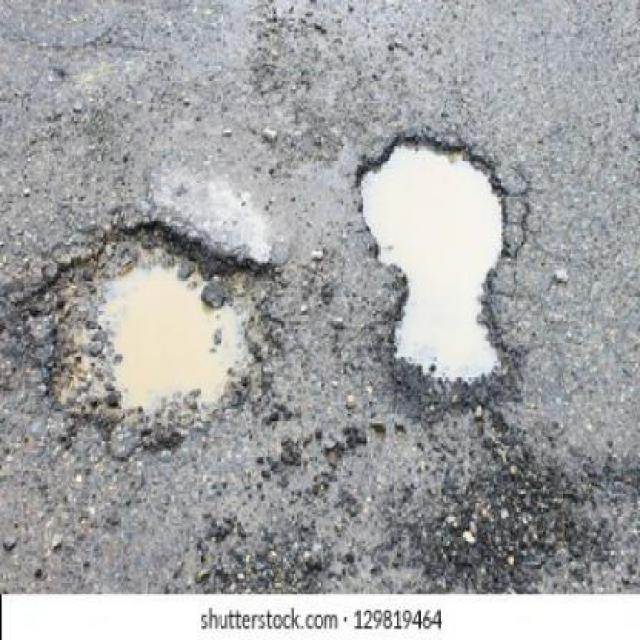Pothole: (32, 215, 280, 459), (351, 124, 524, 411)
